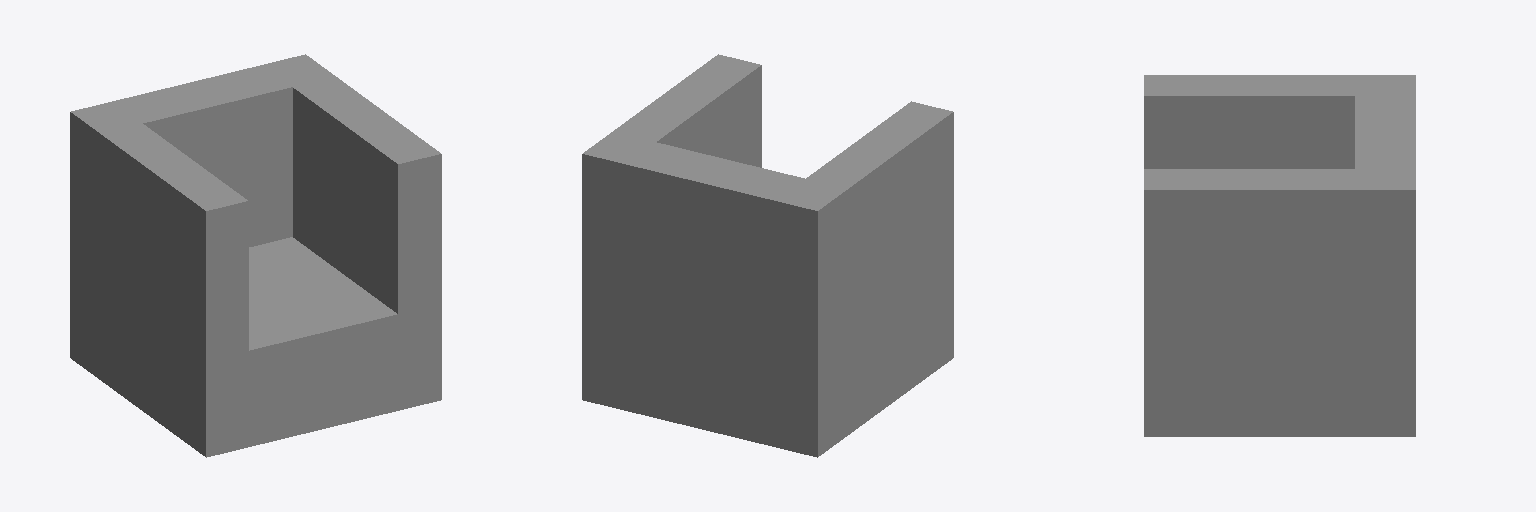
The model's file is Armchair.obj.
The picture shows the model from 3 angles: view 1: azimuth 30°, elevation 25°; view 2: azimuth 150°, elevation 25°; view 3: azimuth 270°, elevation 25°; orthographic projection.
Visible parts, largest first — view 1: Armchair_Cube; view 2: Armchair_Cube; view 3: Armchair_Cube.
Part boxes in pixels (left/top/right/bottom): Armchair_Cube: left=70, top=54, right=441, bottom=457; Armchair_Cube: left=582, top=54, right=953, bottom=457; Armchair_Cube: left=1144, top=75, right=1415, bottom=436.
Bounding box in the file's own units: 2 × 2 × 2.